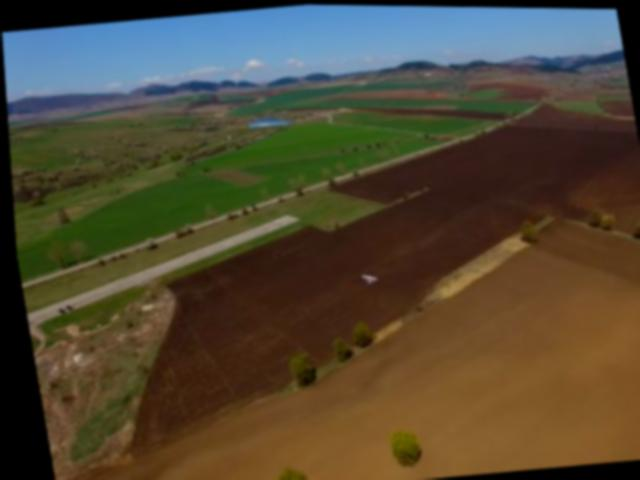uav: (354, 264, 380, 288)
